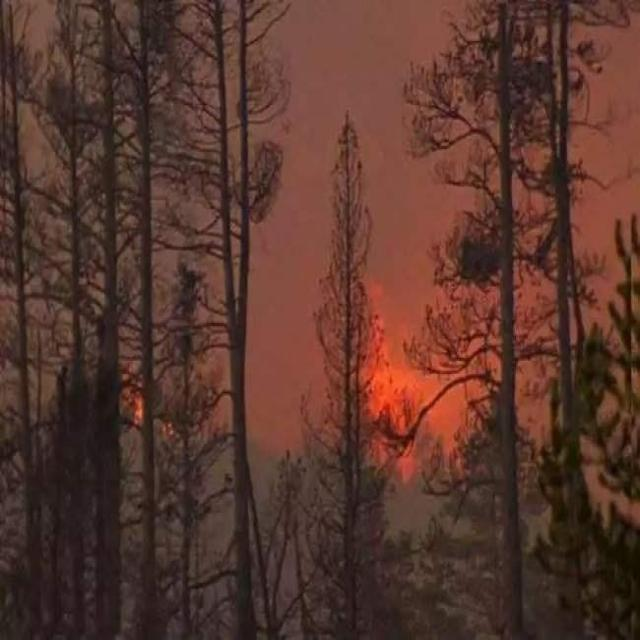fire: (358, 279, 430, 478), (120, 354, 145, 430)
